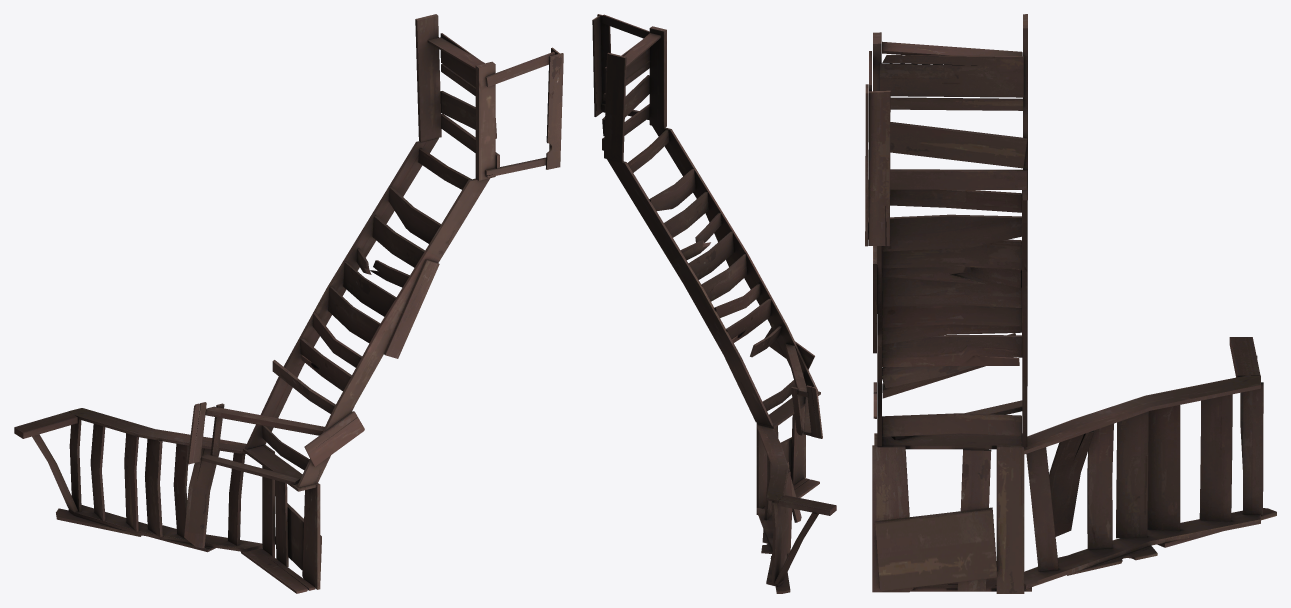
Rendered from props_coalmines_scaffolding1.glb.
3 renders of one model, left to right at view 1: azimuth 30°, elevation 25°; view 2: azimuth 150°, elevation 25°; view 3: azimuth 270°, elevation 25°, orthographic. The views are drawn at different scales.
Parts seen in each view (by area): view 1: models/props_coalmines/scaffolding1; view 2: models/props_coalmines/scaffolding1; view 3: models/props_coalmines/scaffolding1.
Part boxes in pixels (box(x1,y1,x2,y2)): models/props_coalmines/scaffolding1: box(14, 14, 563, 593); models/props_coalmines/scaffolding1: box(592, 14, 836, 593); models/props_coalmines/scaffolding1: box(865, 14, 1276, 593).
Size of the model in its own units: 281 by 323 by 177.
Materials: 1 (1 with a texture image).
